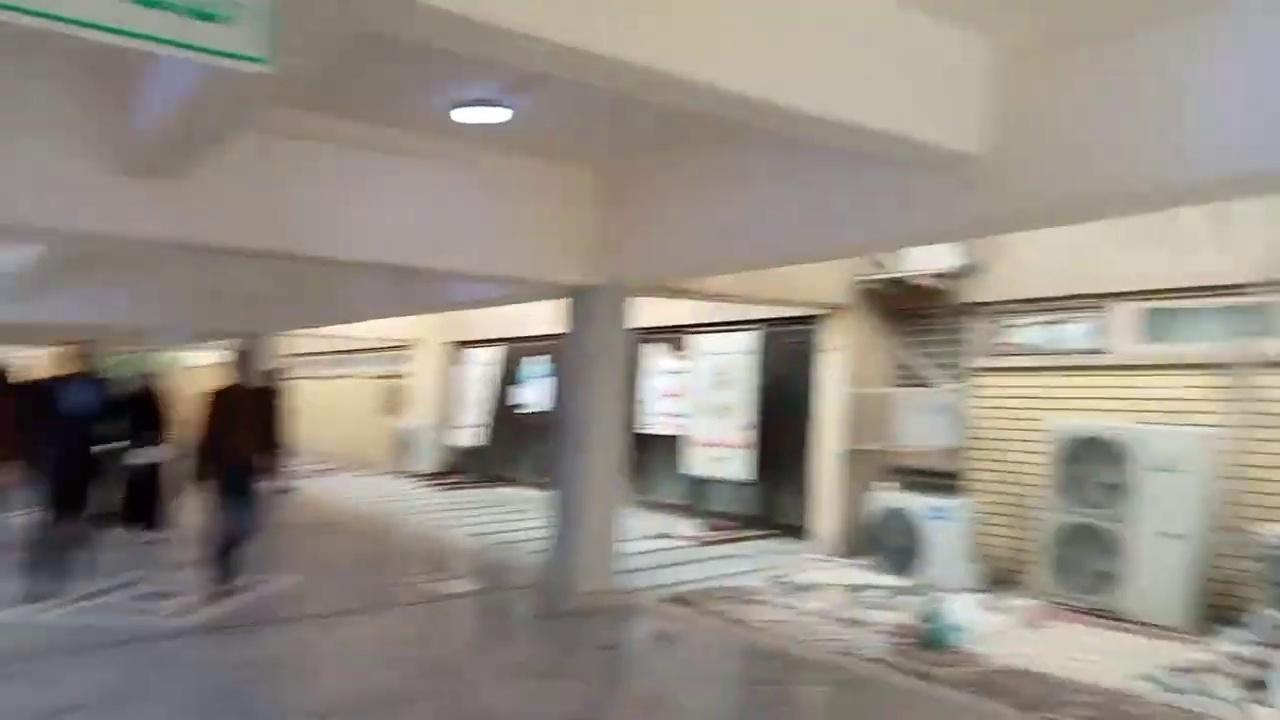person: (192, 346, 280, 596), (118, 371, 167, 531)
